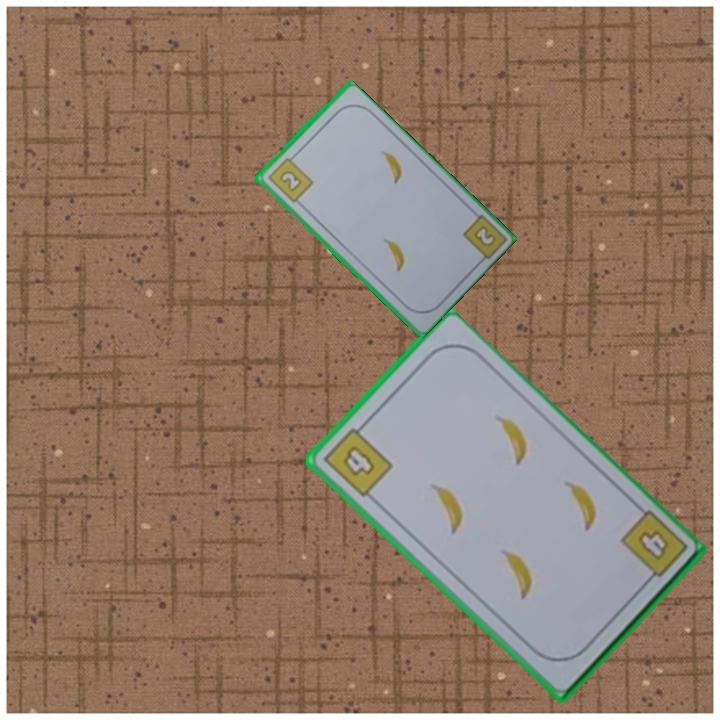2b: (264, 151, 316, 205), (470, 222, 498, 250)
4b: (319, 419, 396, 501), (617, 507, 691, 589)
